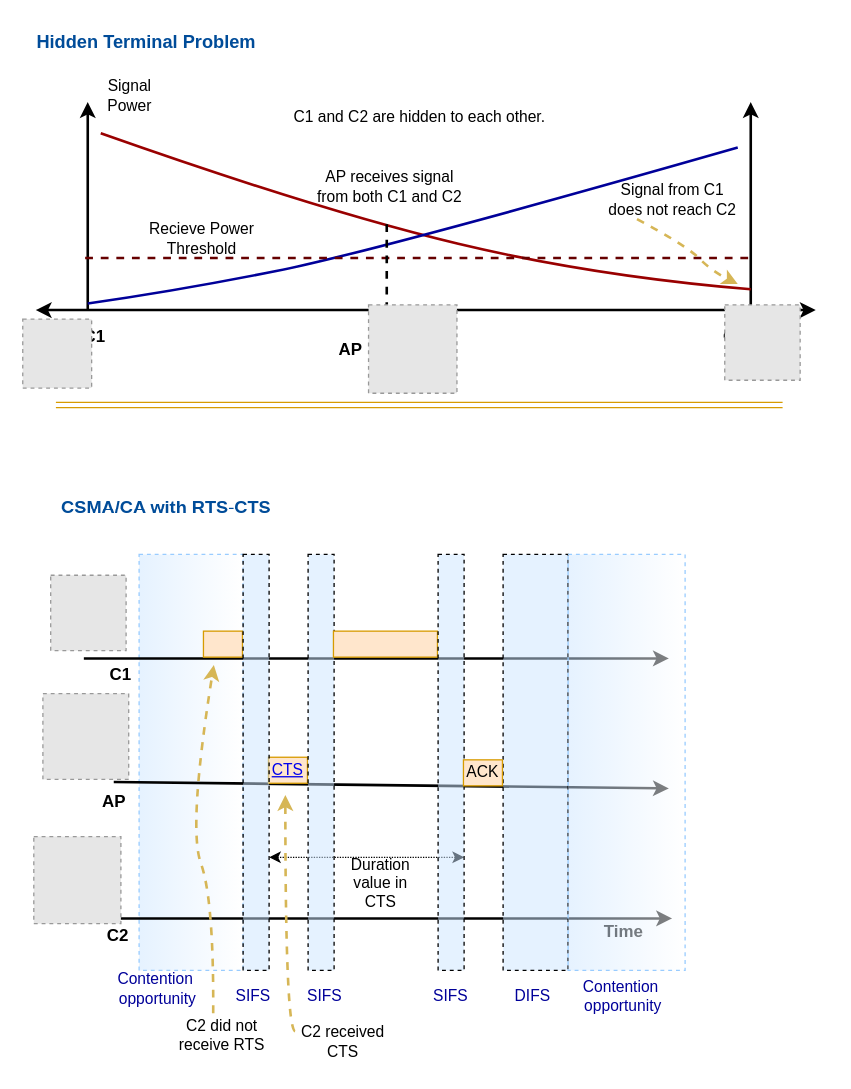
Image size: 851x1089. Some labels were removed from this diagram. Grey dashed boxes stand in for pictures. Each missing label, with the centre of its shape:
"Data" belongs at (x=384, y=643).
"RTS" belongs at (x=222, y=643).
